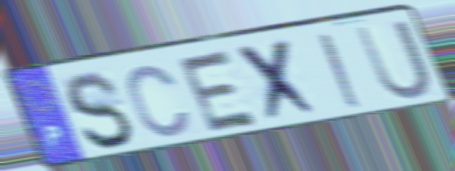C: (125, 62, 194, 139)
E: (174, 46, 263, 135)
I: (315, 31, 367, 112)
S: (62, 70, 137, 152)
U: (351, 17, 435, 104)
X: (233, 35, 325, 127)
